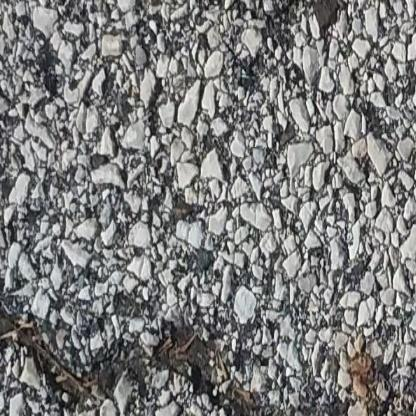Cracks: (0, 285, 330, 416), (275, 0, 353, 64)
